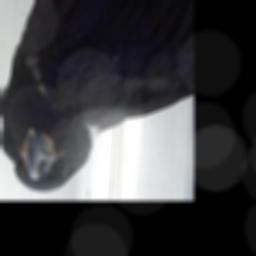Crow: (0, 0, 193, 193)
